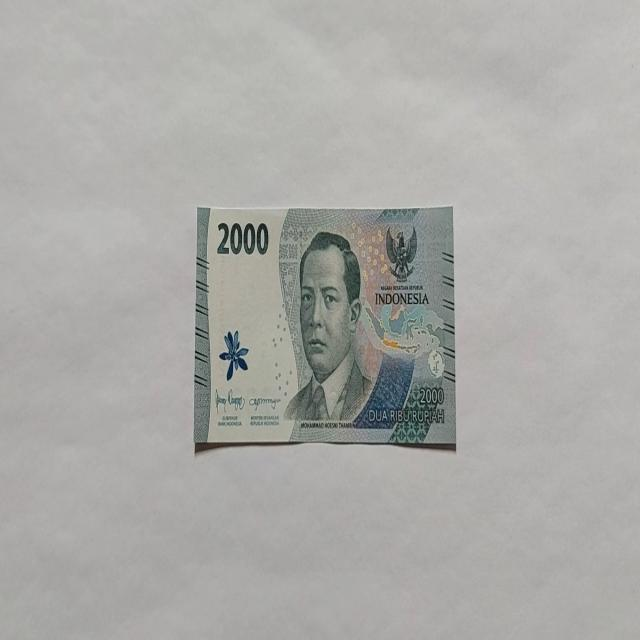dua ribu rupiah: (193, 204, 456, 452), (282, 229, 376, 423)
